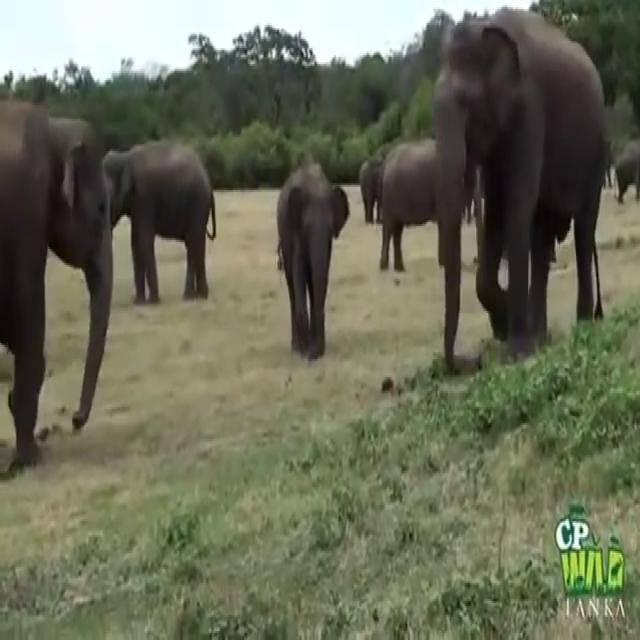Elephant: (433, 6, 610, 372), (0, 96, 113, 466), (102, 137, 216, 304), (275, 160, 349, 359), (378, 137, 476, 272), (358, 153, 384, 224), (614, 137, 639, 203)
